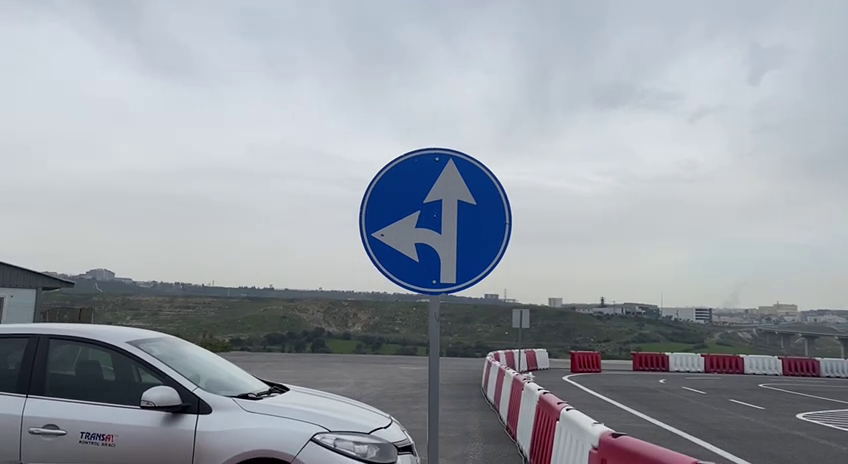forwardAndLeft: (357, 147, 515, 299)
